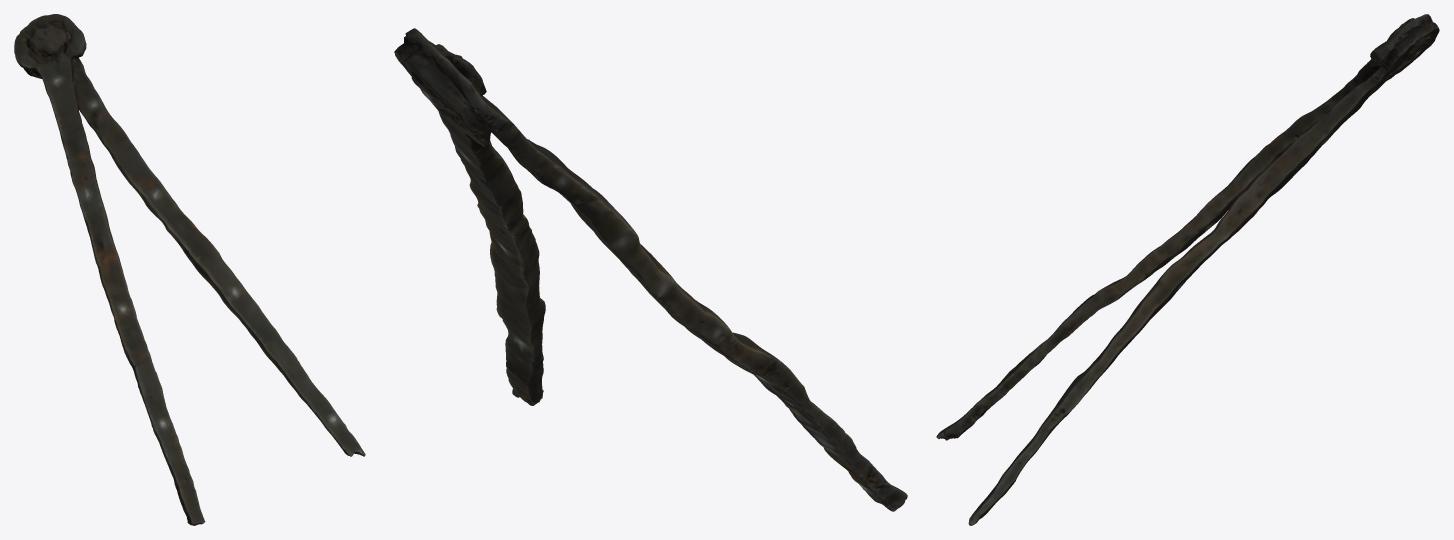
3 renders of one model, left to right at view 1: azimuth 30°, elevation 25°; view 2: azimuth 150°, elevation 25°; view 3: azimuth 270°, elevation 25°, orthographic. The views are drawn at different scales.
Parts seen in each view (by area): view 1: 995_15_371_1; view 2: 995_15_371_1; view 3: 995_15_371_1.
Part boxes in pixels (x1,y1,x2,y2): 995_15_371_1: (14,14,365,525); 995_15_371_1: (394,28,907,511); 995_15_371_1: (936,14,1439,525).
Size of the model in its own units: 0.2873 by 0.5358 by 0.5415.
